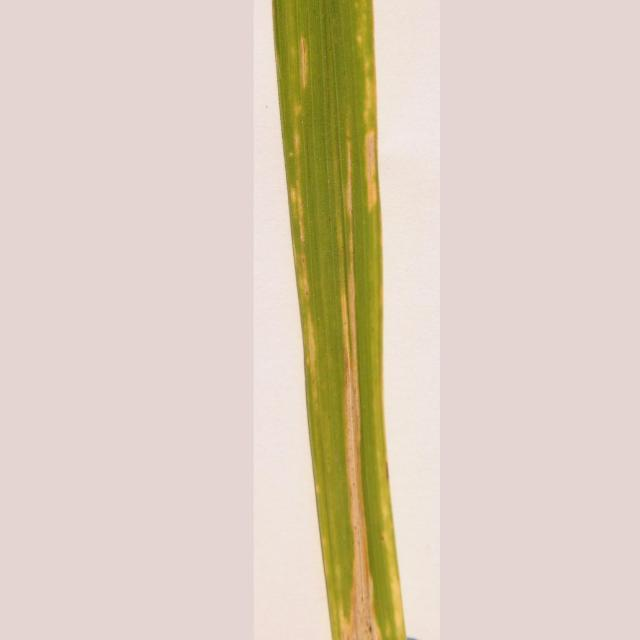leaf blight: (281, 38, 410, 640)
